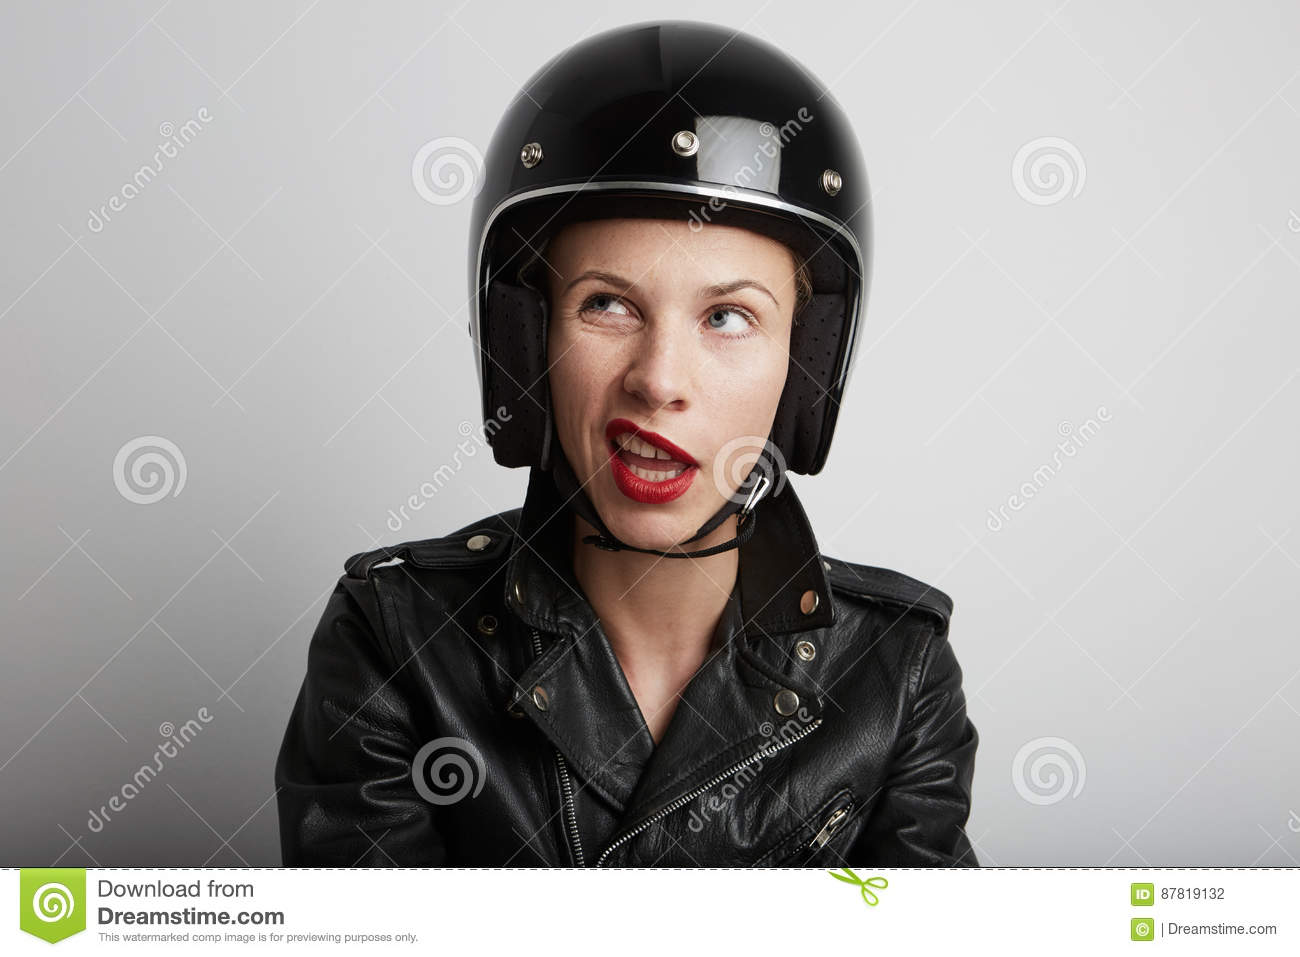helmet: (470, 41, 890, 361)
